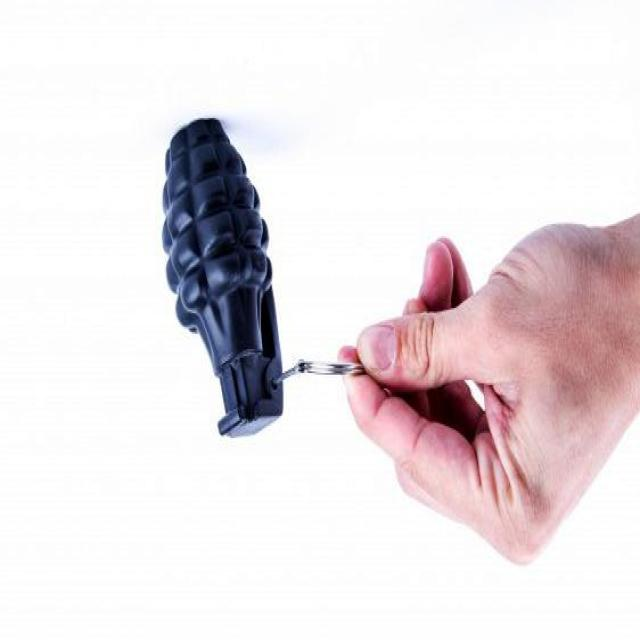grenade: (162, 119, 284, 439)
